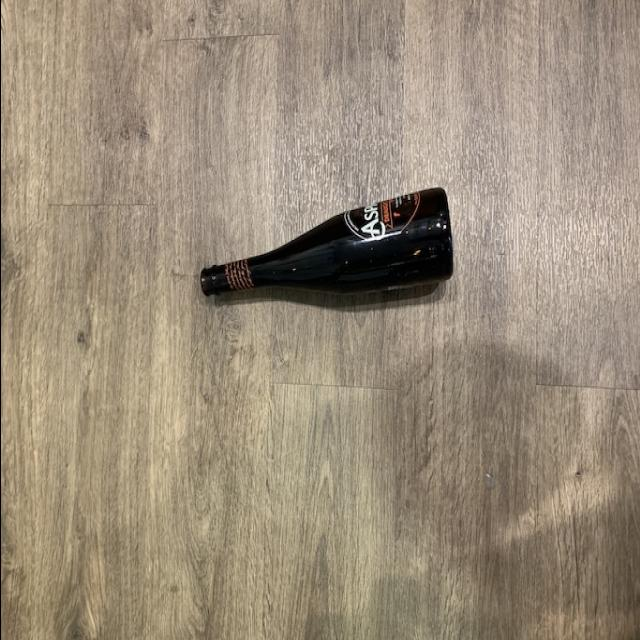Glass Bottle: (200, 182, 454, 312)
